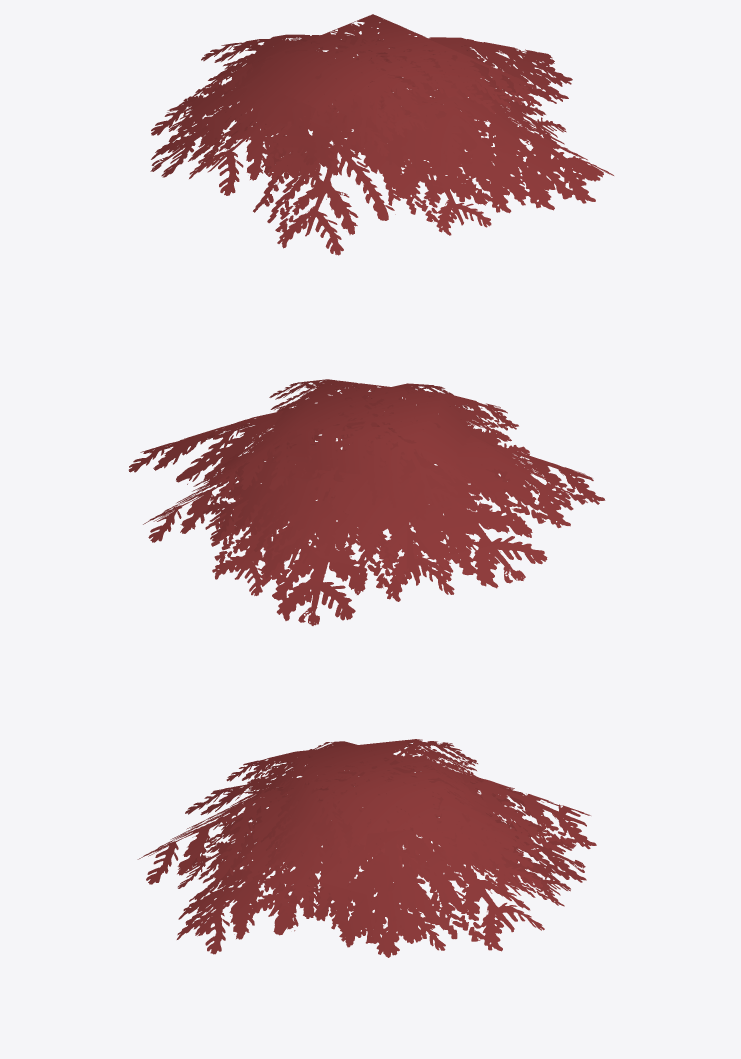
File: Leaves_Krishna.FBX
3 renders of one model, top to bottom at view 1: azimuth 30°, elevation 25°; view 2: azimuth 150°, elevation 25°; view 3: azimuth 270°, elevation 25°, orthographic.
Parts seen in each view (by area): view 1: Leaves_Krishna; view 2: Leaves_Krishna; view 3: Leaves_Krishna.
Boxes of the visible parts, x1=… form: Leaves_Krishna: x1=150, y1=14, x2=613, y2=255; Leaves_Krishna: x1=128, y1=379, x2=605, y2=625; Leaves_Krishna: x1=137, y1=739, x2=596, y2=957.
Size of the model in its own units: 163 by 36.95 by 163.
